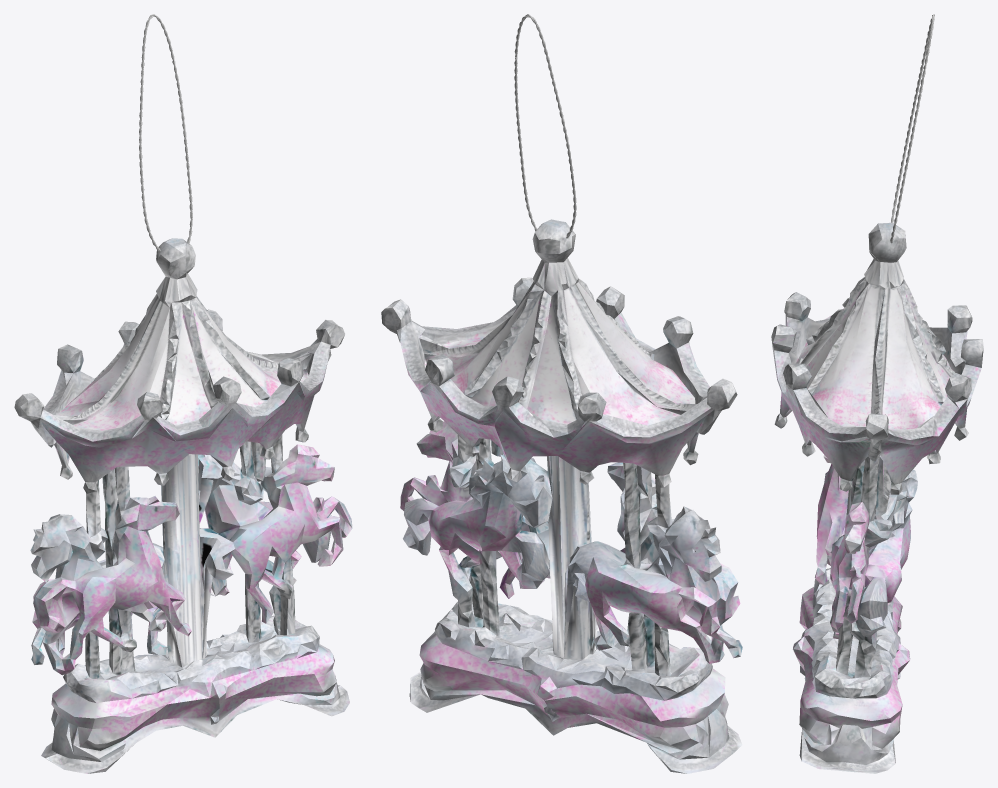
File: carousel.glb
The picture shows the model from 3 angles, left to right: view 1: azimuth 30°, elevation 25°; view 2: azimuth 150°, elevation 25°; view 3: azimuth 270°, elevation 25°; orthographic projection. The views are drawn at different scales.
Visible parts, largest first — view 1: Mesh1.0, GN Instance; view 2: Mesh1.0, GN Instance; view 3: Mesh1.0, GN Instance.
Boxes of the visible parts, bbox=[...] form: Mesh1.0: bbox=[14, 238, 352, 773]; GN Instance: bbox=[139, 14, 192, 251]; Mesh1.0: bbox=[381, 219, 742, 773]; GN Instance: bbox=[514, 14, 576, 238]; Mesh1.0: bbox=[771, 222, 983, 773]; GN Instance: bbox=[890, 14, 934, 243].
Bounding box in the file's own units: 0.1065 × 0.2164 × 0.0601.
Materials: 2 (1 with a texture image).
